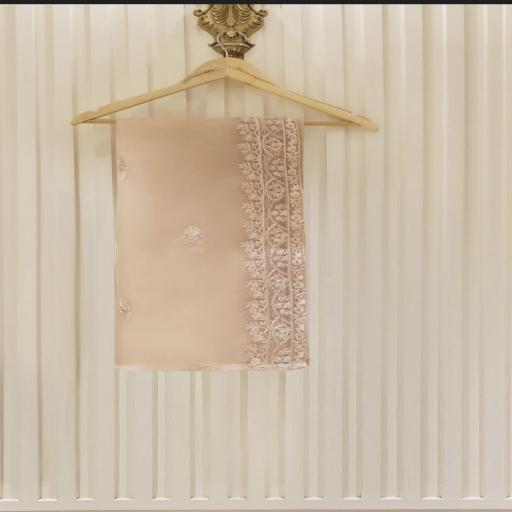dupatta: (91, 100, 337, 380)
